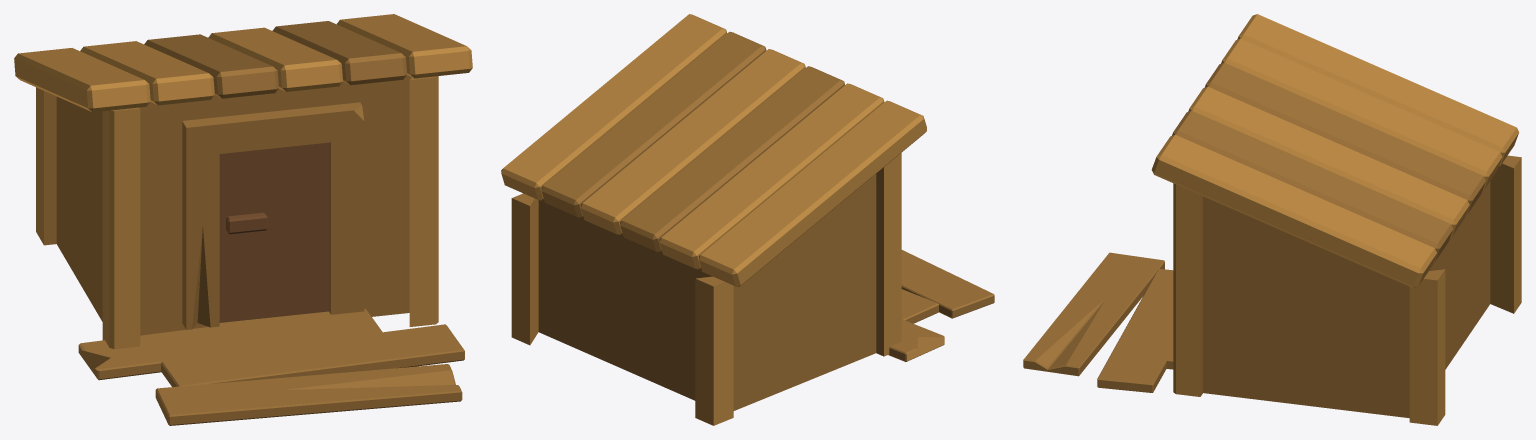
File: intro-log.glb
The picture shows the model from 3 angles, left to right: view 1: azimuth 30°, elevation 25°; view 2: azimuth 150°, elevation 25°; view 3: azimuth 270°, elevation 25°; orthographic projection. The views are drawn at different scales.
Parts seen in each view (by area): view 1: Wood3.001; view 2: Wood3.001; view 3: Wood3.001.
Boxes of the visible parts, left/top/right/bottom form: Wood3.001: left=14, top=14, right=472, bottom=425; Wood3.001: left=501, top=14, right=994, bottom=425; Wood3.001: left=1023, top=14, right=1521, bottom=425.
Size of the model in its own units: 1.86 by 1.21 by 2.19.
